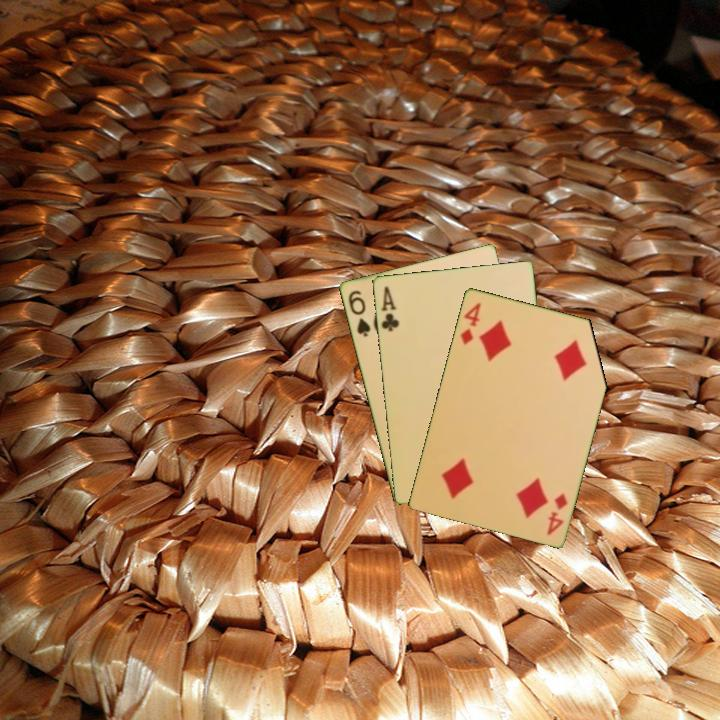4d: (543, 489, 570, 538), (457, 299, 483, 347)
6s: (344, 286, 373, 340)
Ac: (377, 283, 401, 334)
